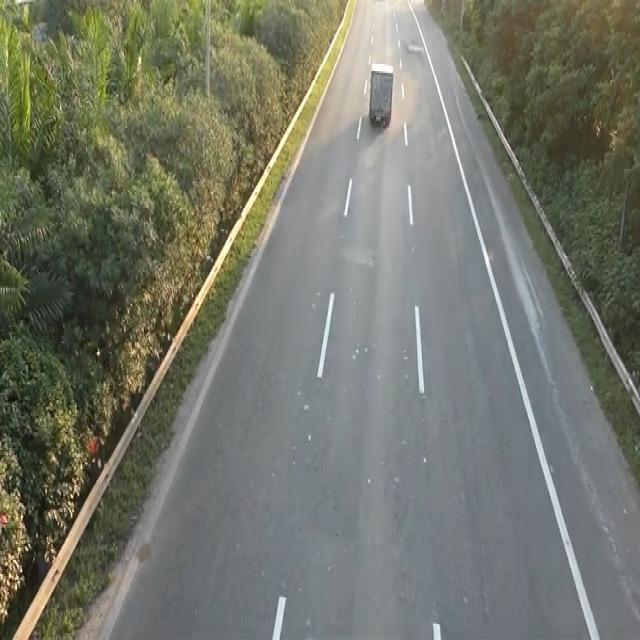minivan: (367, 59, 394, 128)
